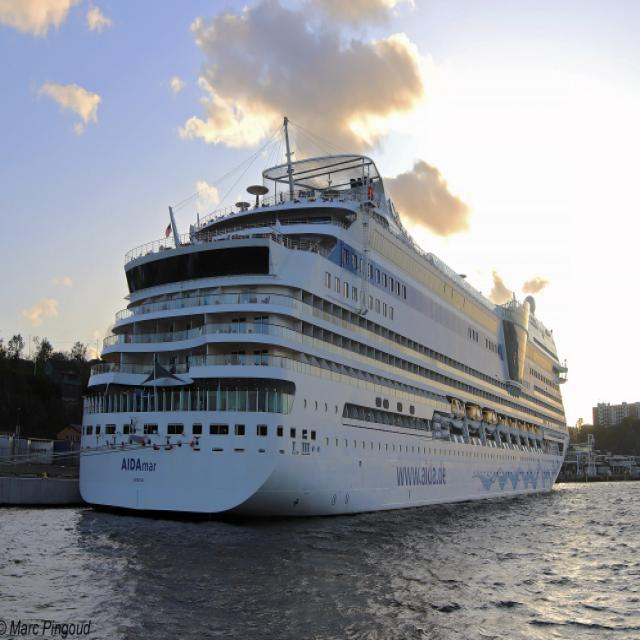cruises: (75, 116, 577, 531)
